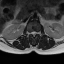CCS_normal: (32, 29, 34, 38)
LFS_normal: (36, 29, 38, 35)
LLS_normal: (34, 29, 36, 36)
RFS_normal: (28, 30, 30, 35)
RLS_normal: (30, 29, 32, 36)
